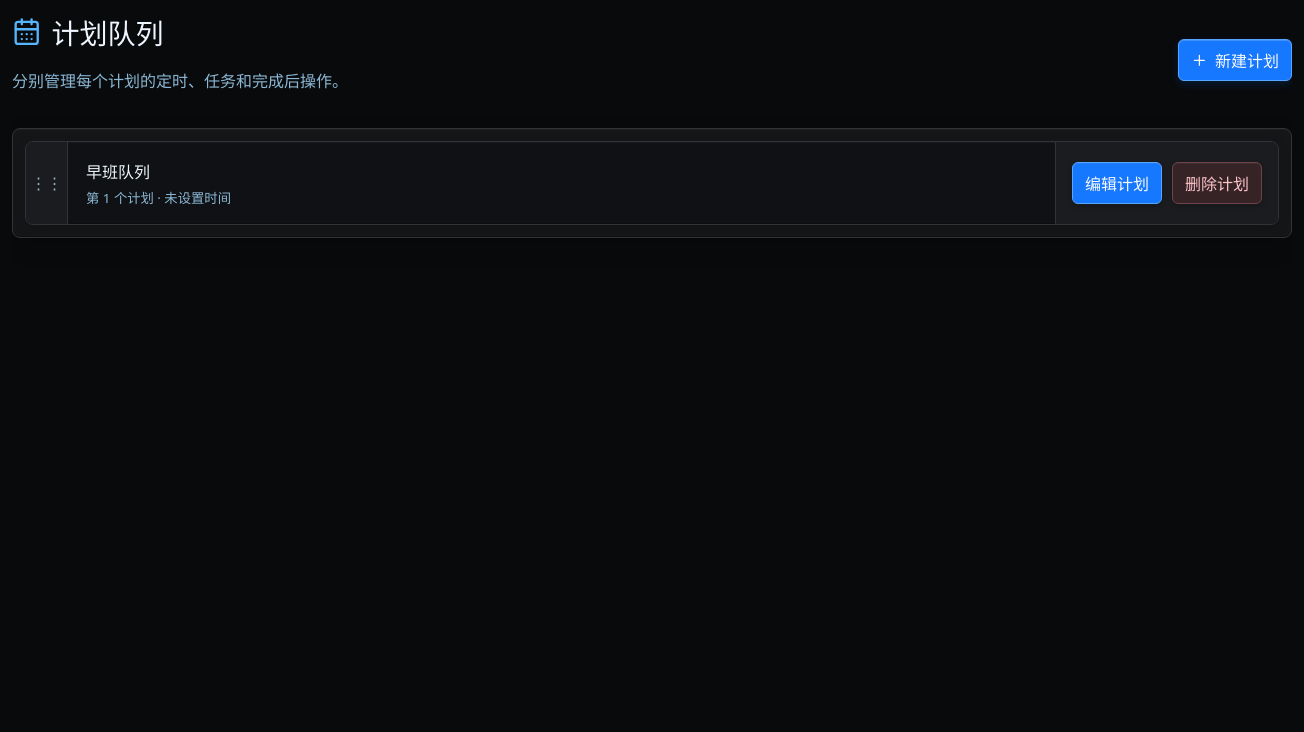
Test: keeps edit-only controls out of the overview and returns to the card list
The width and height of the screenshot is (1304, 732).
Expected: the text "队列类型" is not shown
Click the button "编辑计划" at (1117,183), box [1072,162,1162,204]
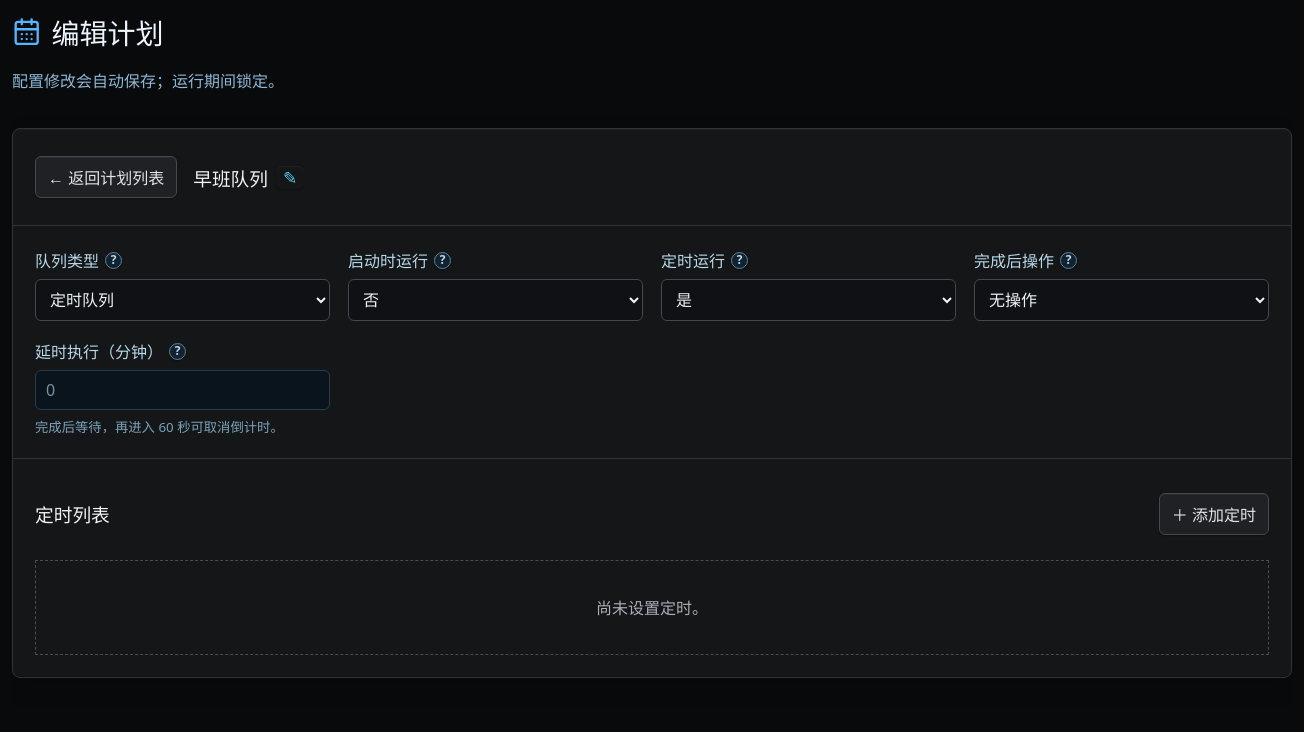
Expected: the button with class "rename-button" is shown, [276,166,304,189]
Expected: the text "队列类型" is shown, [35,250,99,272]
Expected: the text "删除计划" is gone
Click the button with class "back-button" at (106,177), box [35,156,177,198]
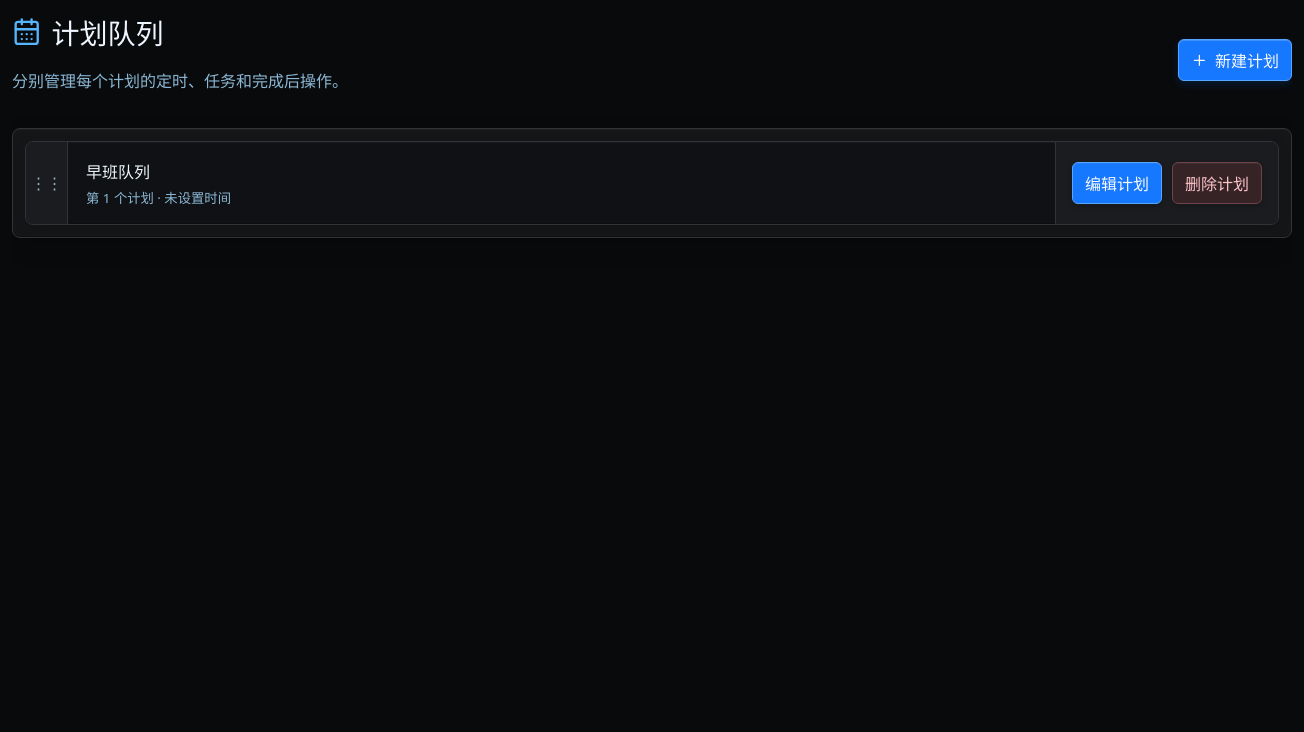
Expected: the element showing "⋮⋮ 早班队列 第 1 个计划 · 未设置时间 编辑计划 删除计划" is shown, [12,128,1292,238]
